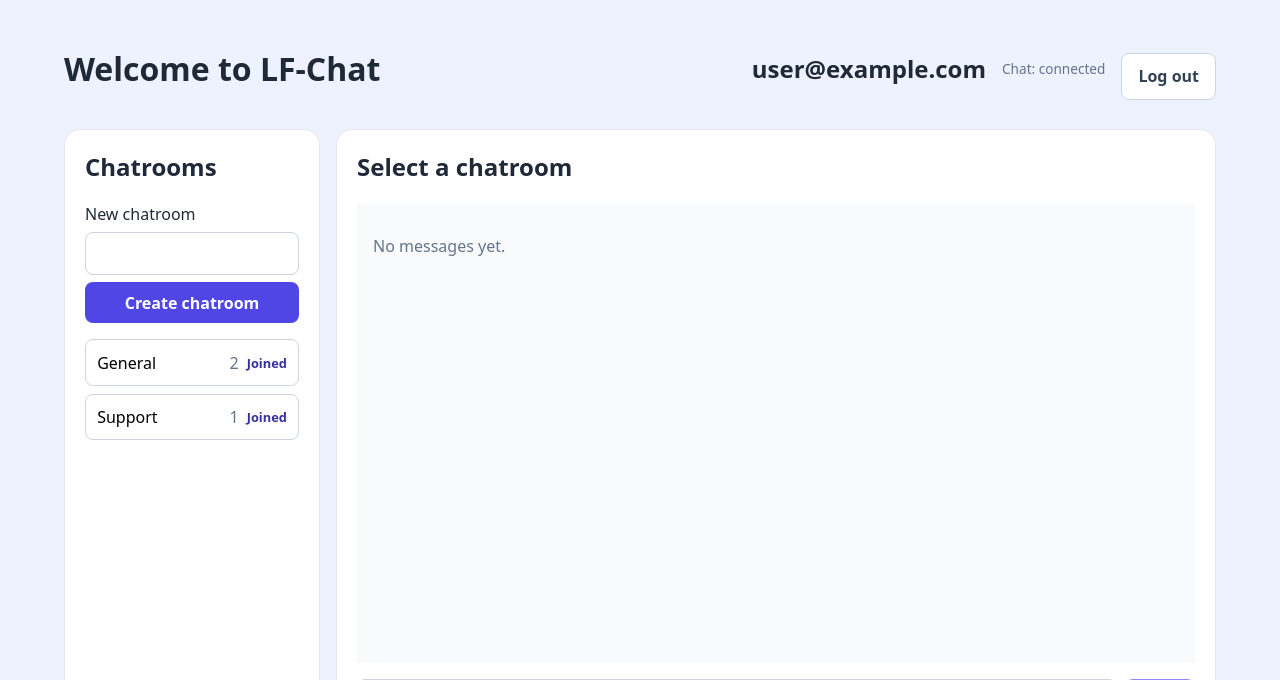
Test: ignores a late history acknowledgement from a former selection
What coordinates should you click on to do the following:
click the button "Support 1 Joined"
I would click on:
 (192, 417)
Its box is [85,394,299,440].
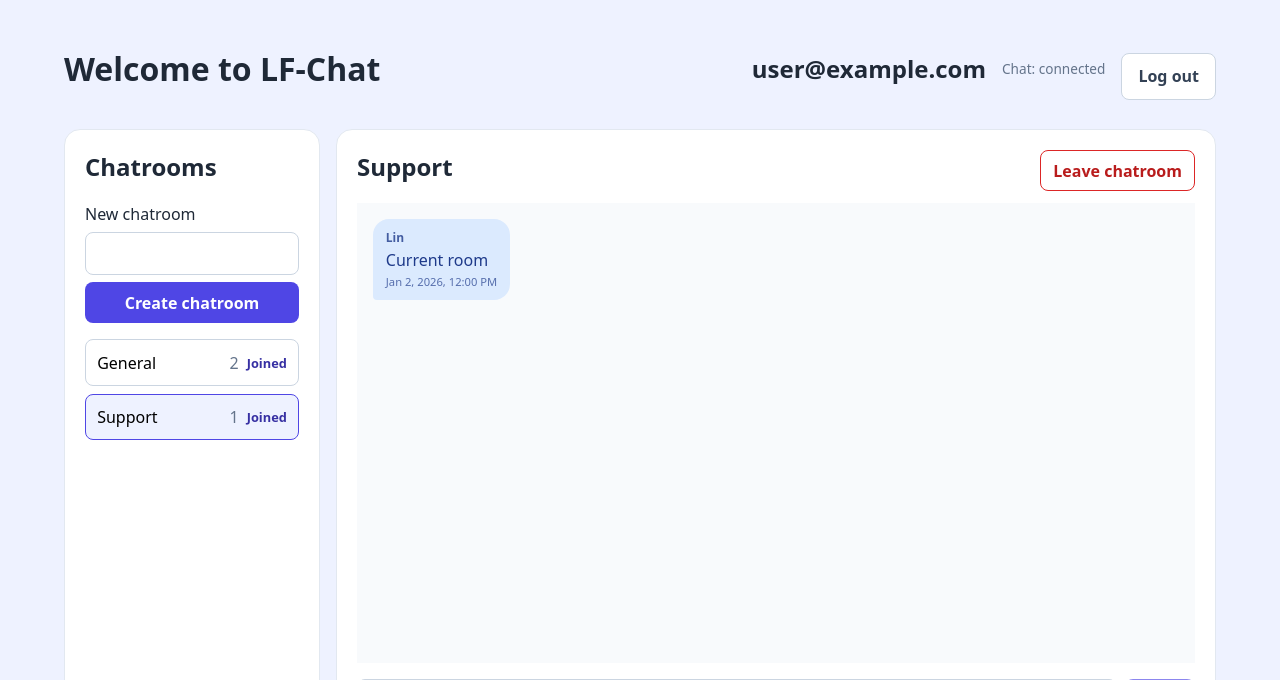
Expected: the text "Current room" is shown, [386,249,497,271]
